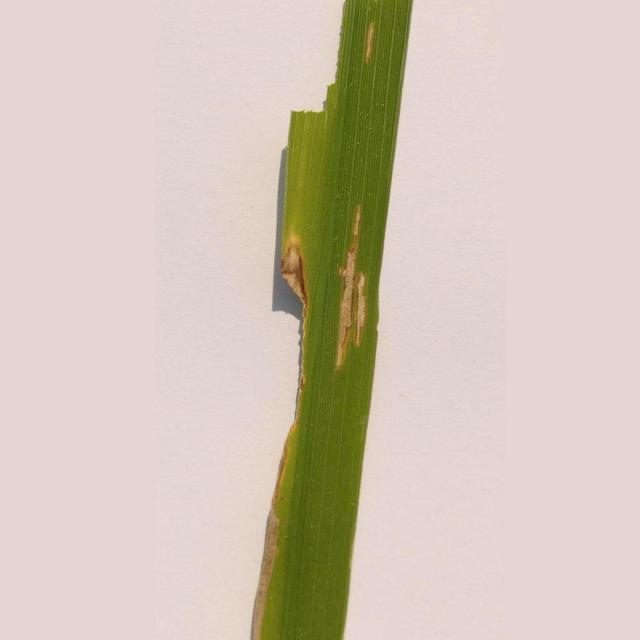leaf blight: (279, 205, 373, 425), (245, 490, 301, 636), (344, 7, 404, 81)
